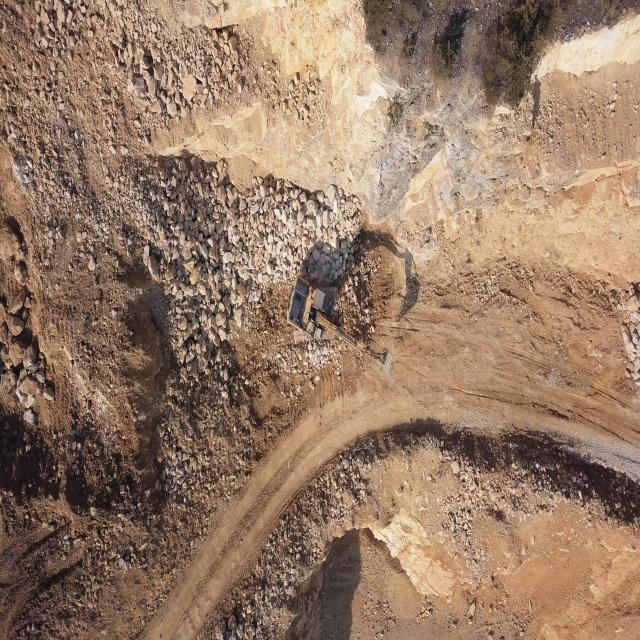vehicle: (287, 278, 395, 384)
